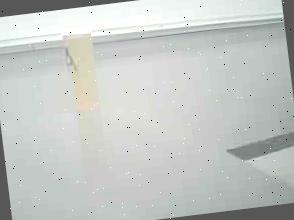Bottle A: (50, 13, 118, 128)
